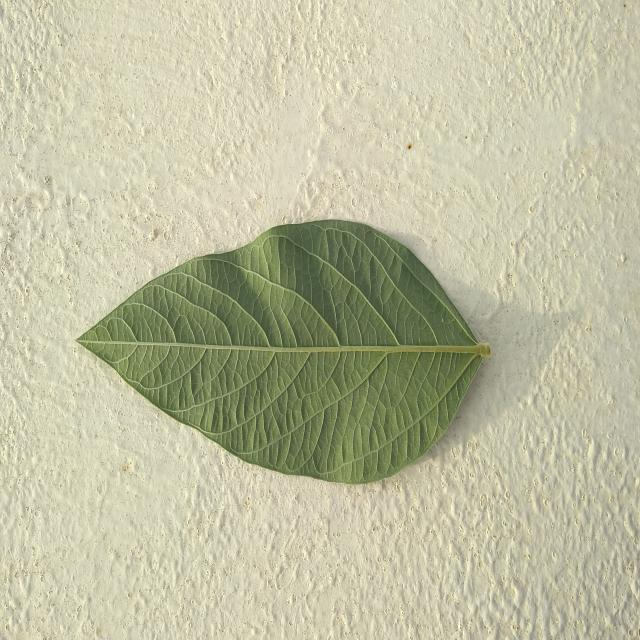pea: (78, 220, 490, 484)
